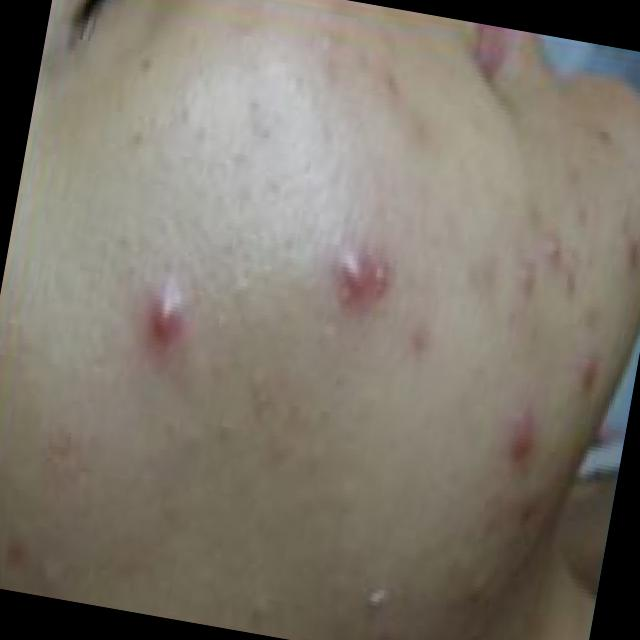nodule: (138, 278, 196, 348), (332, 243, 378, 297), (503, 404, 544, 463), (574, 350, 604, 393)
